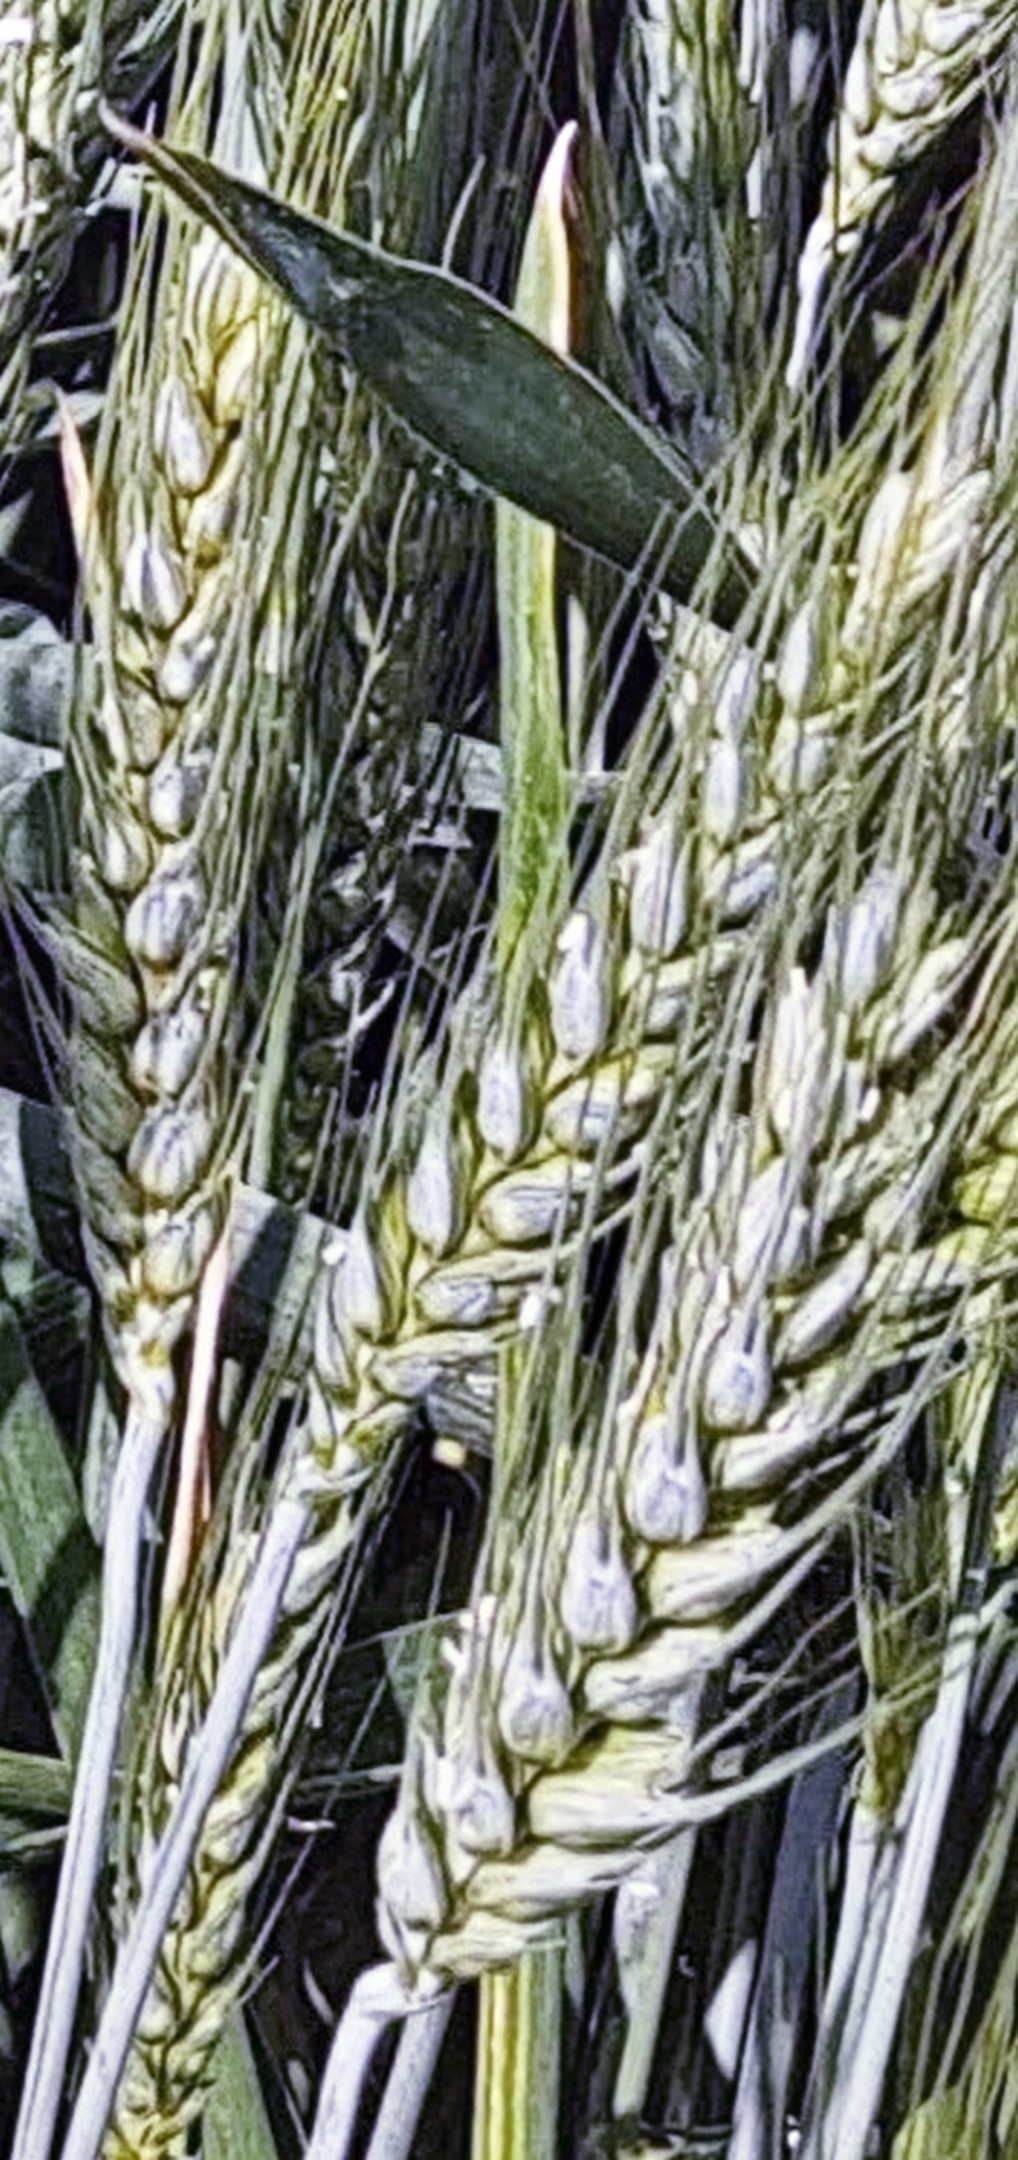Healthy Wheat: (380, 946, 1018, 1970), (6, 67, 344, 1338)
